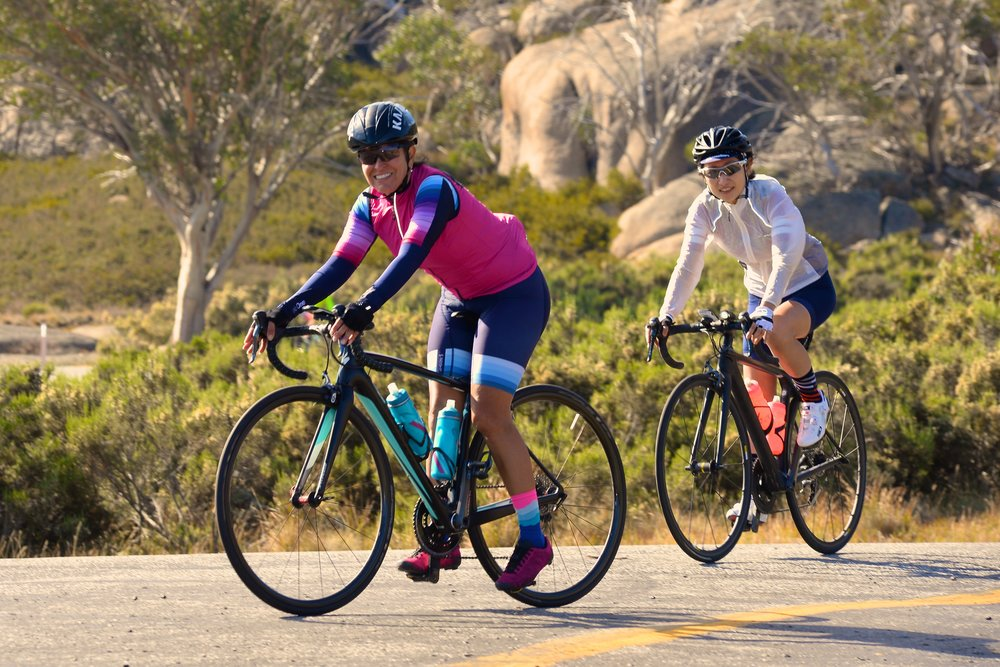helmet: (346, 92, 414, 151), (690, 122, 758, 173)
